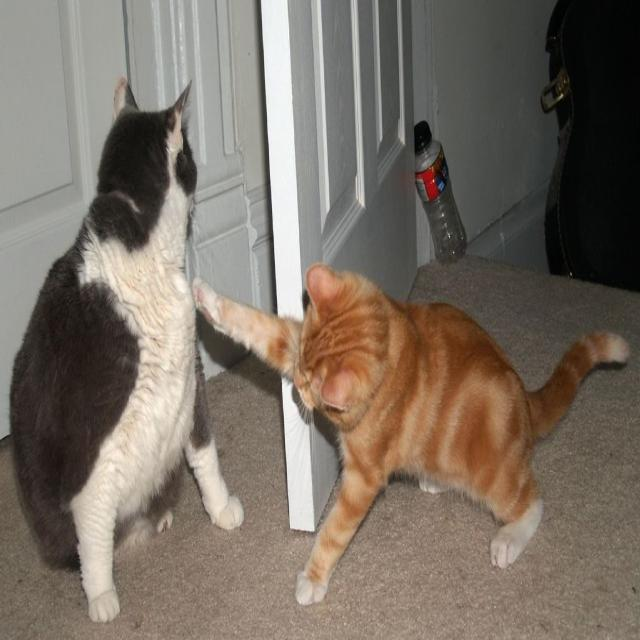Cat: (194, 257, 630, 605), (4, 80, 228, 618)
